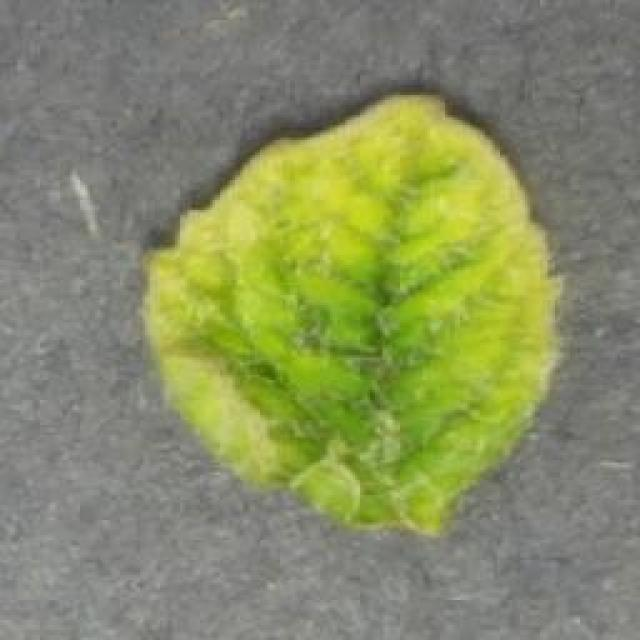Tom_Yellow_Leaf_Curl_Virus: (164, 100, 561, 518)
